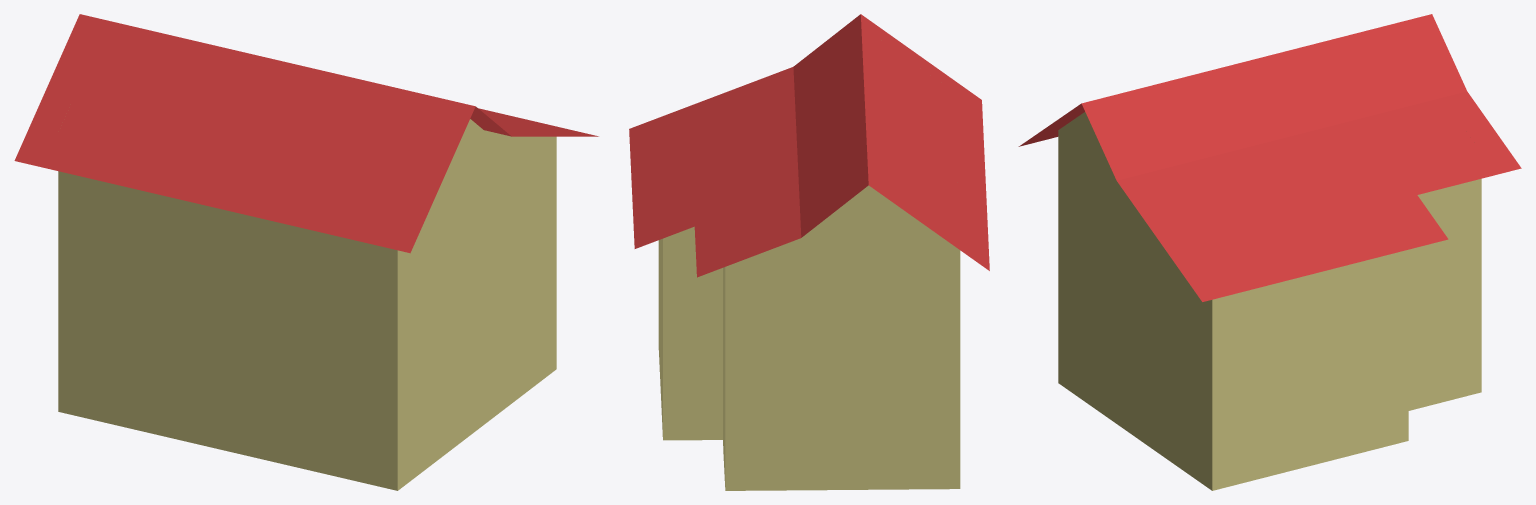
The picture shows the model from 3 angles, left to right: view 1: azimuth 30°, elevation 25°; view 2: azimuth 150°, elevation 25°; view 3: azimuth 270°, elevation 25°; orthographic projection. The views are drawn at different scales.
Size of the model in its own units: 17.7 by 17.24 by 12.09.
